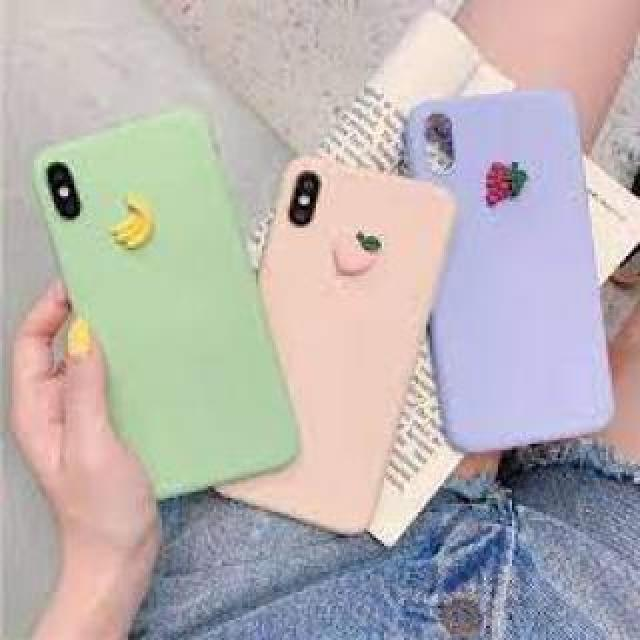smart phone: (38, 101, 272, 526), (410, 71, 622, 466), (278, 117, 395, 555)
